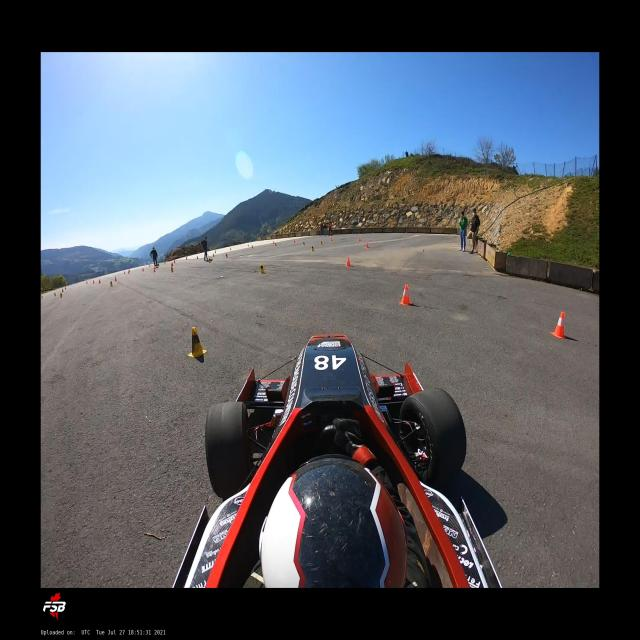orange_cone: (550, 312, 567, 339), (399, 284, 412, 306), (346, 256, 350, 267), (358, 237, 361, 242), (366, 242, 368, 248), (171, 263, 173, 268), (154, 268, 156, 272), (99, 280, 101, 283), (142, 269, 144, 272), (331, 238, 333, 241), (273, 241, 275, 244), (93, 280, 94, 284), (65, 286, 66, 290), (115, 278, 116, 281), (128, 271, 129, 274), (124, 272, 125, 274), (294, 240, 295, 242), (248, 244, 249, 246), (187, 258, 187, 260)
yellow_cone: (188, 327, 207, 358), (259, 263, 265, 274), (310, 244, 314, 252), (320, 240, 323, 246), (110, 281, 113, 286), (171, 267, 173, 273), (213, 253, 215, 257), (226, 254, 228, 258), (303, 242, 305, 245), (61, 294, 62, 298), (55, 293, 56, 297), (164, 262, 166, 264), (42, 296, 43, 299), (62, 289, 63, 292), (275, 242, 276, 245), (252, 245, 253, 248), (197, 256, 198, 258)
